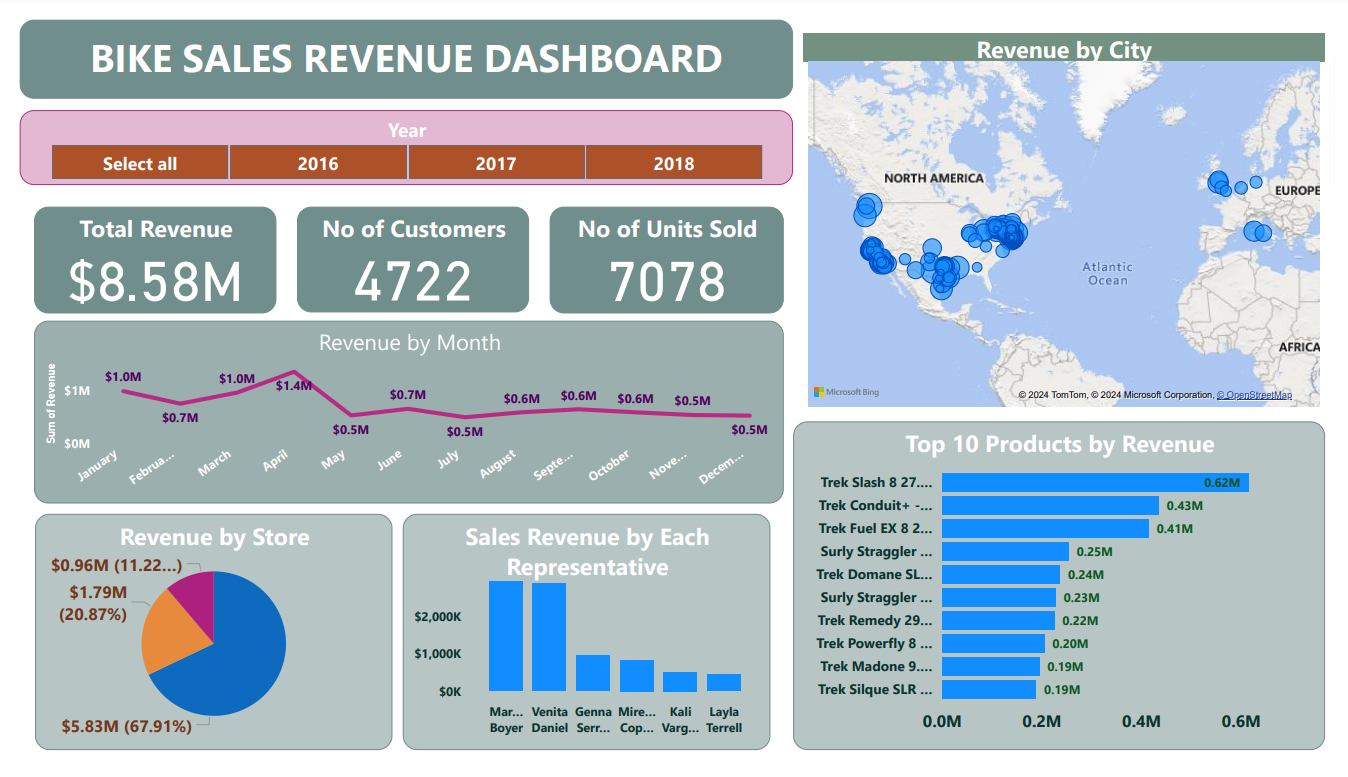

What the dashboard file says about the page in this screenshot:
{"tool":"powerbi","page":{"name":"Page 1","canvas":[1280,720],"ordinal":0},"visuals":[{"type":"slicer","title":"Year","fields":{"Values":["Query1.order_date.Variation.Date Hierarchy.Year"]},"box":[0,87.9,752.6,72.9],"z":0},{"type":"card","title":"Total Revenue","fields":{"Values":["Query1.Revenue"]},"box":[13.8,182.2,236.2,104.3],"z":1000},{"type":"card","title":"No of Customers","fields":{"Values":["Query1.customers"]},"box":[270.1,182.2,226.1,103],"z":2000},{"type":"card","title":"No of Units Sold","fields":{"Values":["Query1.Total_Units"]},"box":[516.4,182.2,227.4,104.3],"z":3000},{"type":"map","title":"Revenue by City","fields":{"Category":["Query1.city"],"Size":["Query1.Revenue"]},"box":[762.6,12.6,508.8,369.4],"z":4000},{"type":"lineChart","title":" Revenue by Month","fields":{"Y":["Query1.Revenue"],"Category":["Query1.order_date.Variation.Date Hierarchy.Month"]},"box":[13.8,292.7,730,178.4],"z":5000},{"type":"pieChart","title":" Revenue by Store","fields":{"Y":["Query1.Revenue"],"Category":["Query1.store_name"]},"box":[15.1,481.2,348,229.9],"z":5001},{"type":"clusteredColumnChart","title":"Sales Revenue by Each Representative","fields":{"Y":["Query1.Revenue"],"Category":["Query1.sales_rep"]},"box":[373.1,481.2,358.1,229.9],"z":5002},{"type":"barChart","title":"Top 10 Products by Revenue ","fields":{"Category":["Query1.product_name"],"Y":["Query1.Top 10 Products by Revenue"]},"box":[752.6,390.7,518.9,320.4],"z":5003},{"type":"textbox","box":[0,0,752.6,76.6],"z":5004}]}

Visuals, with their boxes in screenshot pixels (x1, y1, x2, y2), scaled from the page's 1280x720 canvas onto the 1348x777 screenshot:
"Year" slicer: locate(0, 95, 793, 174)
"Total Revenue" card: locate(15, 197, 263, 309)
"No of Customers" card: locate(284, 197, 523, 308)
"No of Units Sold" card: locate(544, 197, 783, 309)
"Revenue by City" map: locate(803, 14, 1339, 412)
" Revenue by Month" lineChart: locate(15, 316, 783, 508)
" Revenue by Store" pieChart: locate(16, 519, 382, 767)
"Sales Revenue by Each Representative" clusteredColumnChart: locate(393, 519, 770, 767)
"Top 10 Products by Revenue " barChart: locate(793, 422, 1339, 767)
textbox: locate(0, 0, 793, 83)
